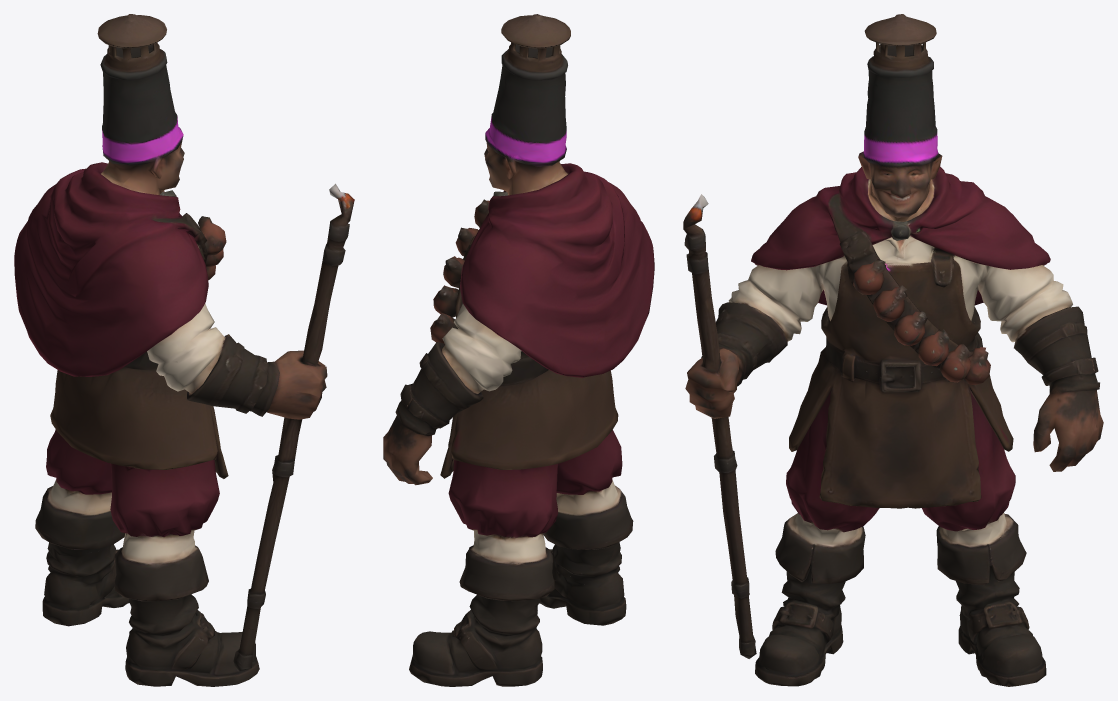
File: model_tripo_h31.glb
The picture shows the model from 3 angles, left to right: view 1: azimuth 30°, elevation 25°; view 2: azimuth 150°, elevation 25°; view 3: azimuth 270°, elevation 25°; orthographic projection. The views are drawn at different scales.
Parts seen in each view (by area): view 1: tripo_node_e0958025-f73c-4874-98e3-846d61b1b4d8; view 2: tripo_node_e0958025-f73c-4874-98e3-846d61b1b4d8; view 3: tripo_node_e0958025-f73c-4874-98e3-846d61b1b4d8.
Boxes of the visible parts, bbox=[...] form: tripo_node_e0958025-f73c-4874-98e3-846d61b1b4d8: bbox=[14, 14, 354, 686]; tripo_node_e0958025-f73c-4874-98e3-846d61b1b4d8: bbox=[383, 14, 654, 686]; tripo_node_e0958025-f73c-4874-98e3-846d61b1b4d8: bbox=[683, 14, 1103, 686].
Bounding box in the file's own units: 0.3366 × 1 × 0.5948.
1 material, 1 textured.
